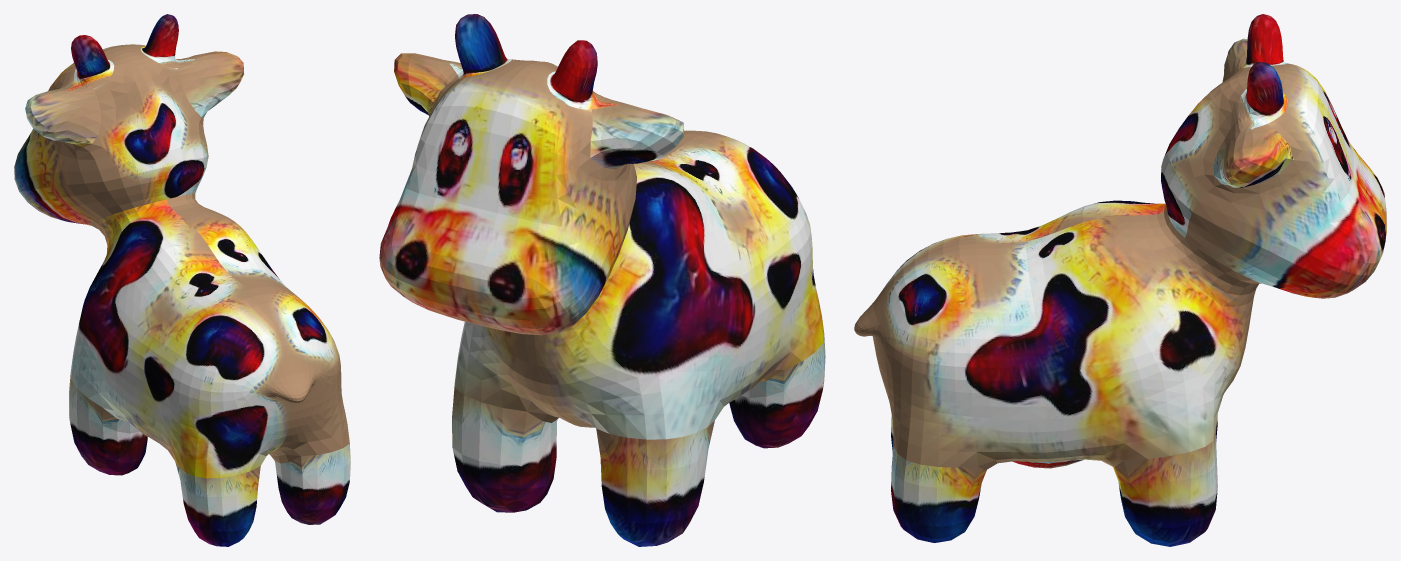
Rendered from cow_naive.glb.
The picture shows the model from 3 angles, left to right: view 1: azimuth 30°, elevation 25°; view 2: azimuth 150°, elevation 25°; view 3: azimuth 270°, elevation 25°; orthographic projection. The views are drawn at different scales.
Parts seen in each view (by area): view 1: cow.001; view 2: cow.001; view 3: cow.001.
Boxes of the visible parts, x1,y1,x2,y2 form: cow.001: (14, 14, 350, 546); cow.001: (379, 14, 825, 546); cow.001: (854, 14, 1386, 546).
Size of the model in its own units: 0.9431 by 1.69 by 1.72.
1 material, 1 textured.
